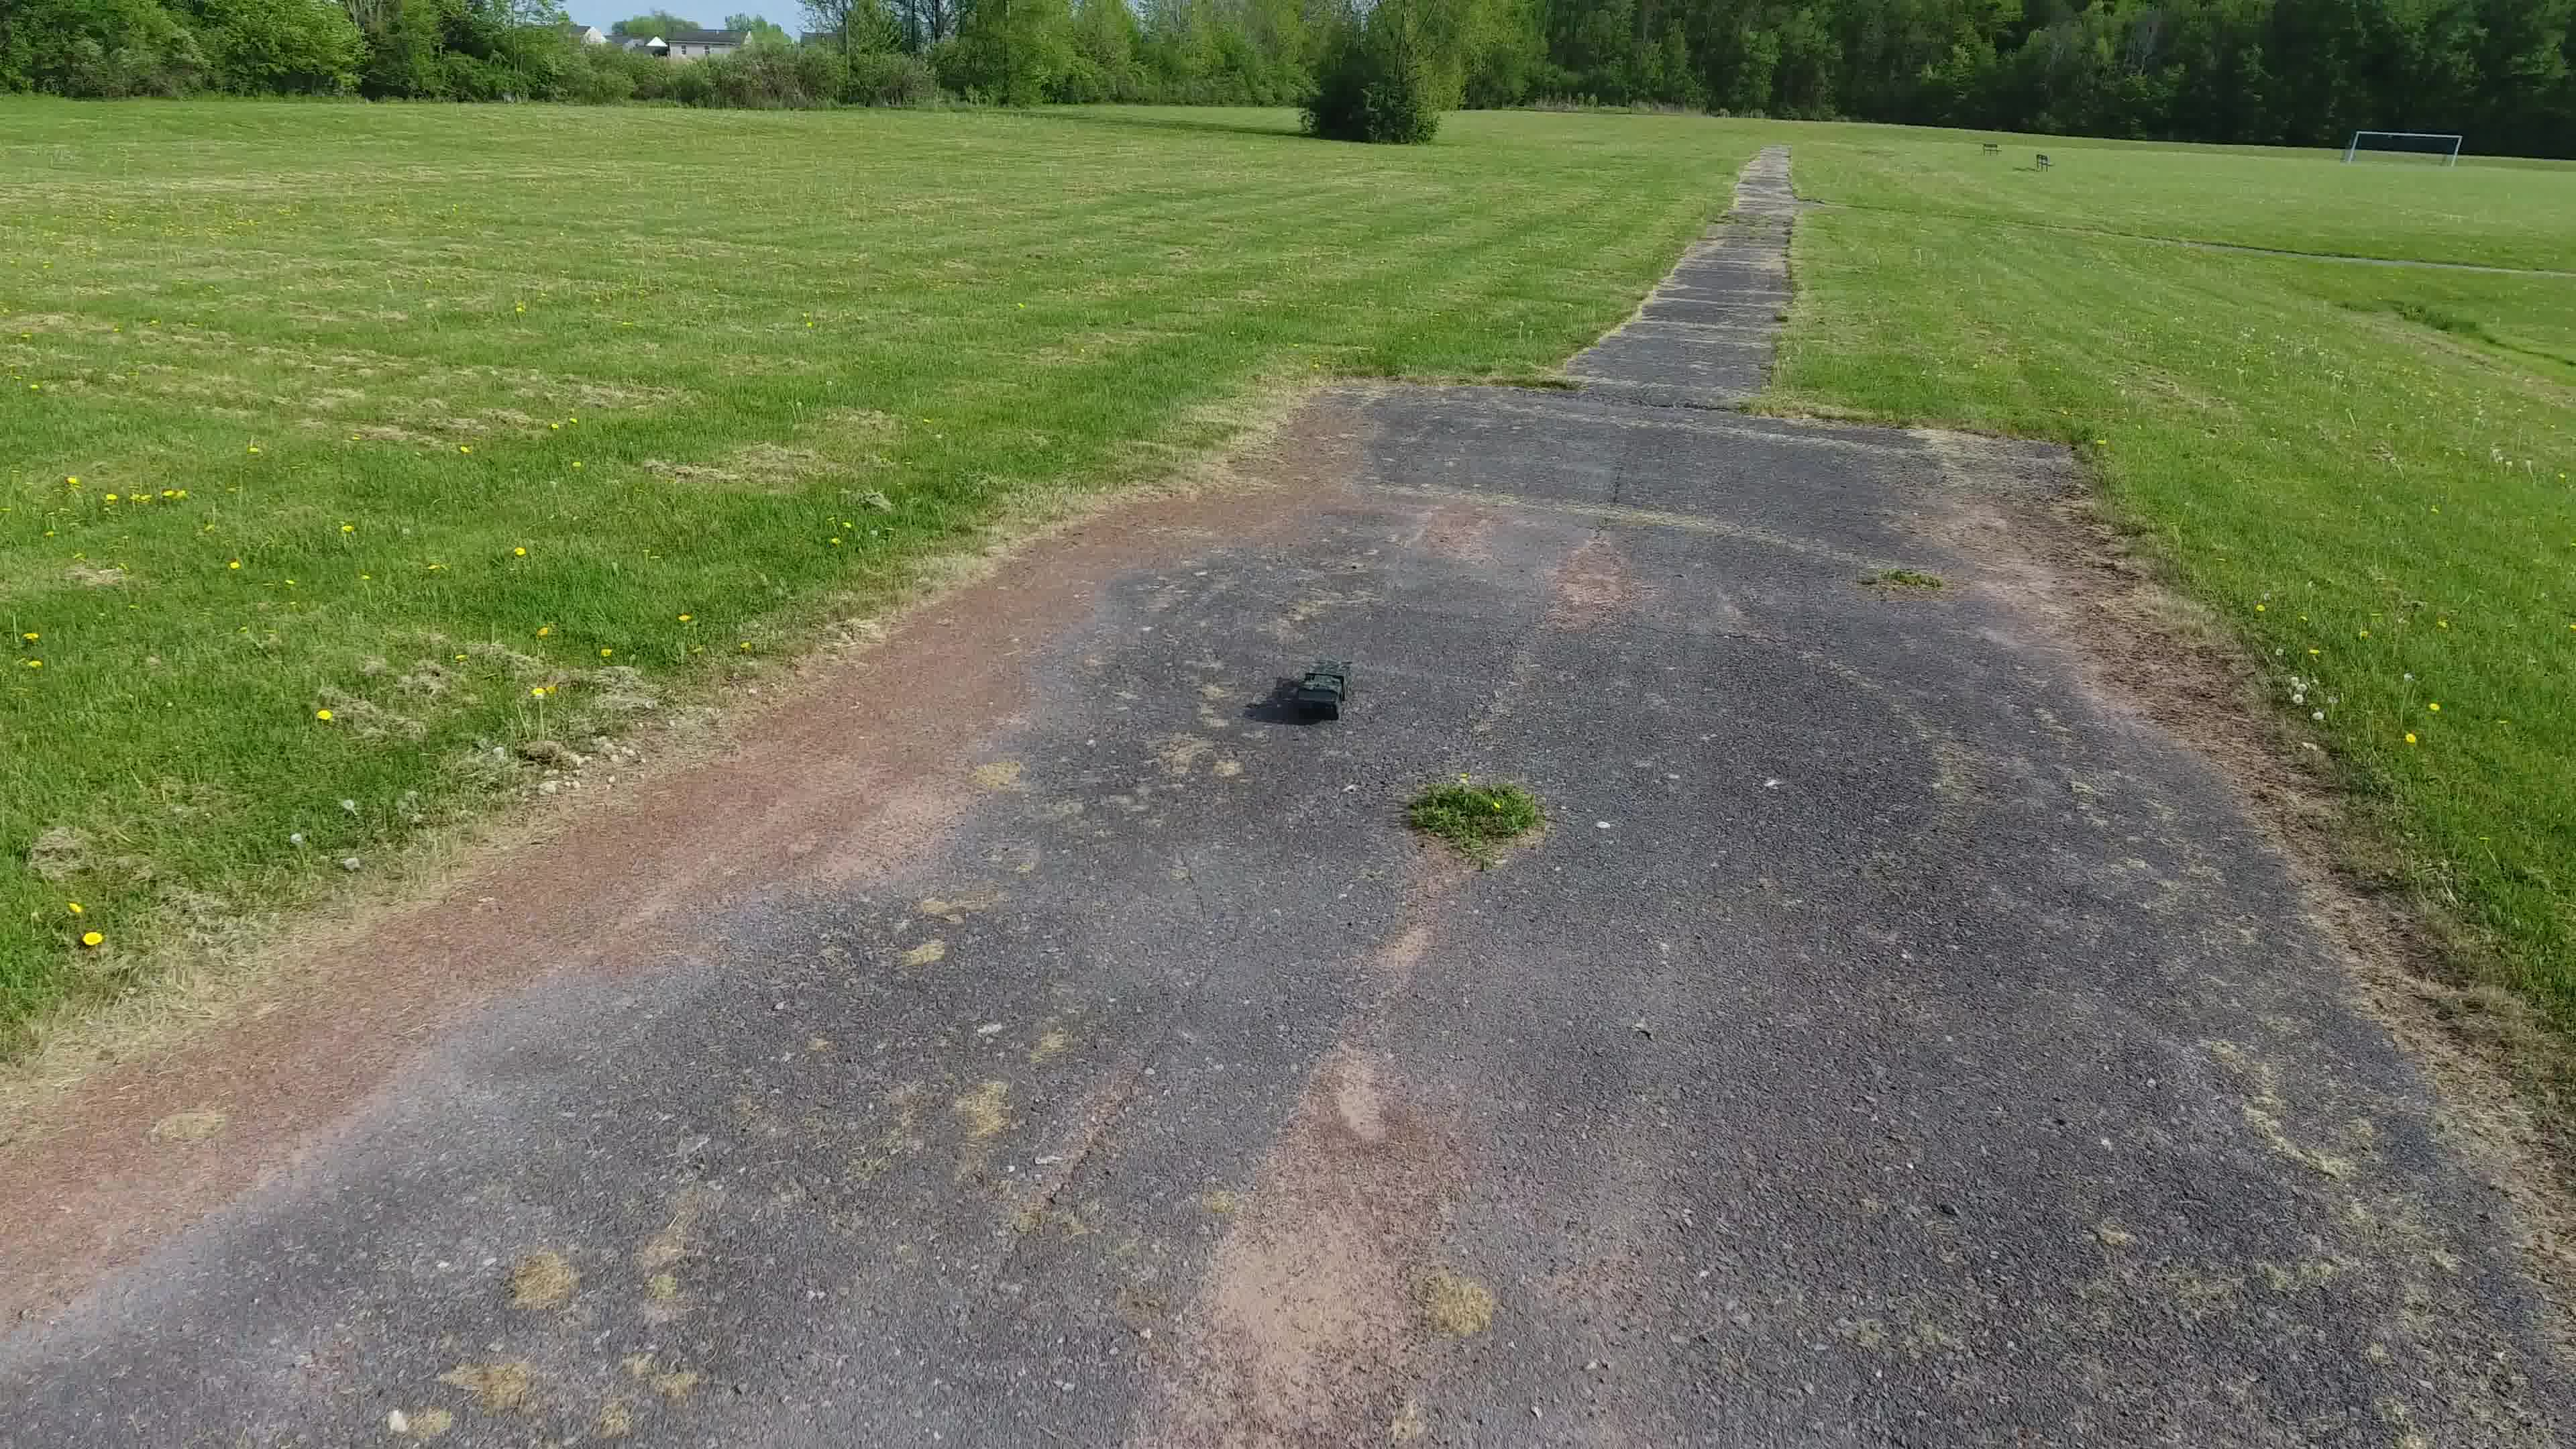transporter9_camo: (1292, 665, 1352, 724)
